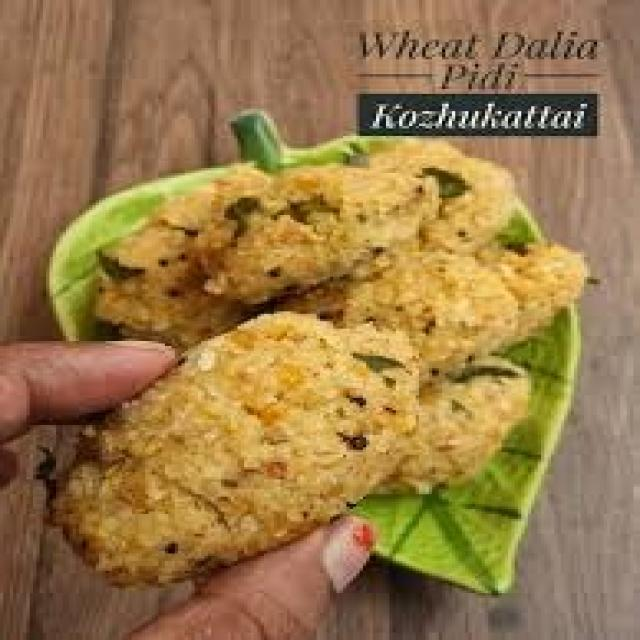pidi kolukattai: (39, 117, 560, 587)
